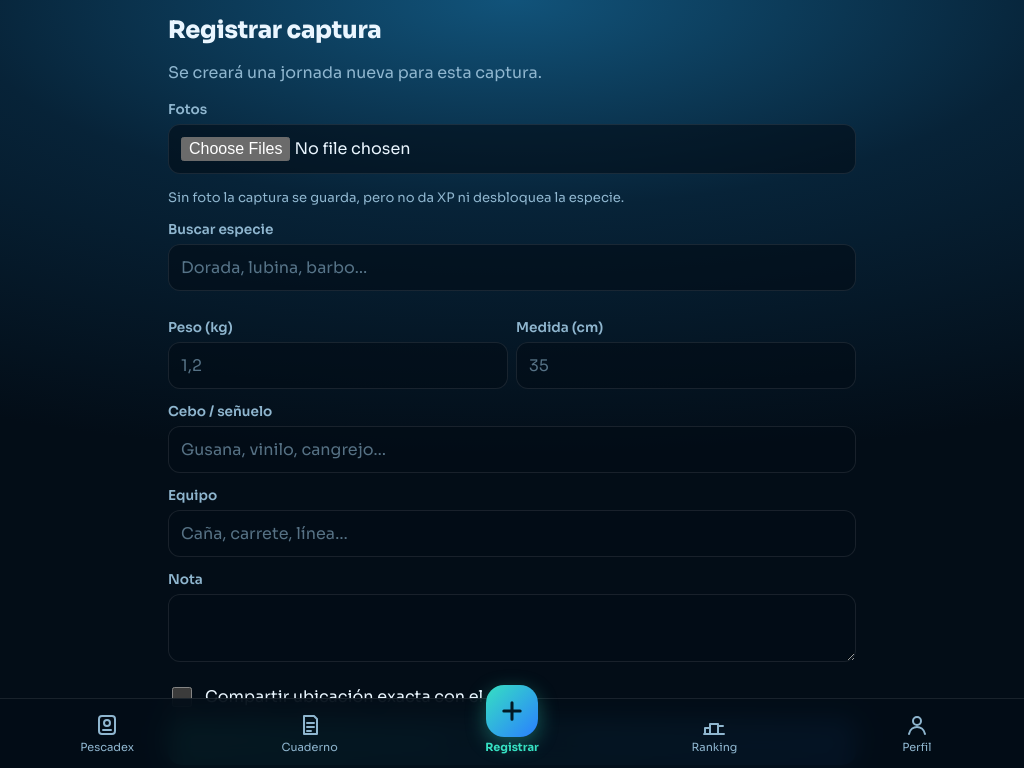
Test: si no existe, se puede crear desde el buscador y queda elegida
Type "pez ballesta gris" into the field labelled "Buscar especie".
click(512, 267); type("pez ballesta gris")  # box [168,244,856,291]
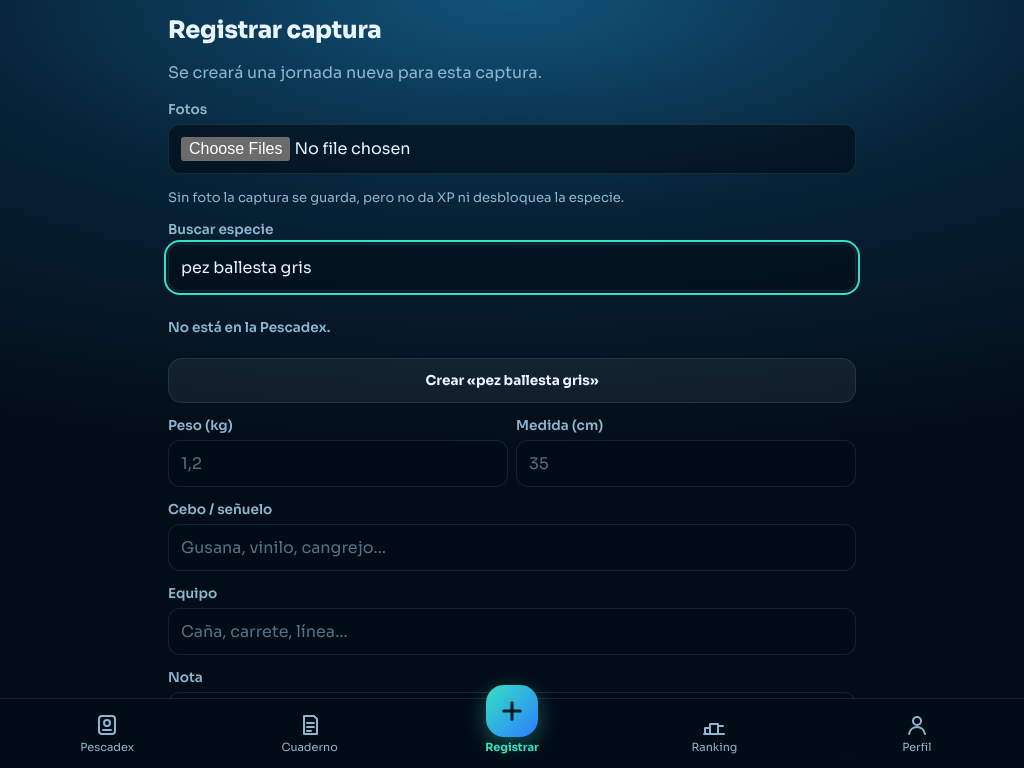
Click the button "Crear «pez ballesta gris»".
click(512, 381)  # box [168,358,856,403]
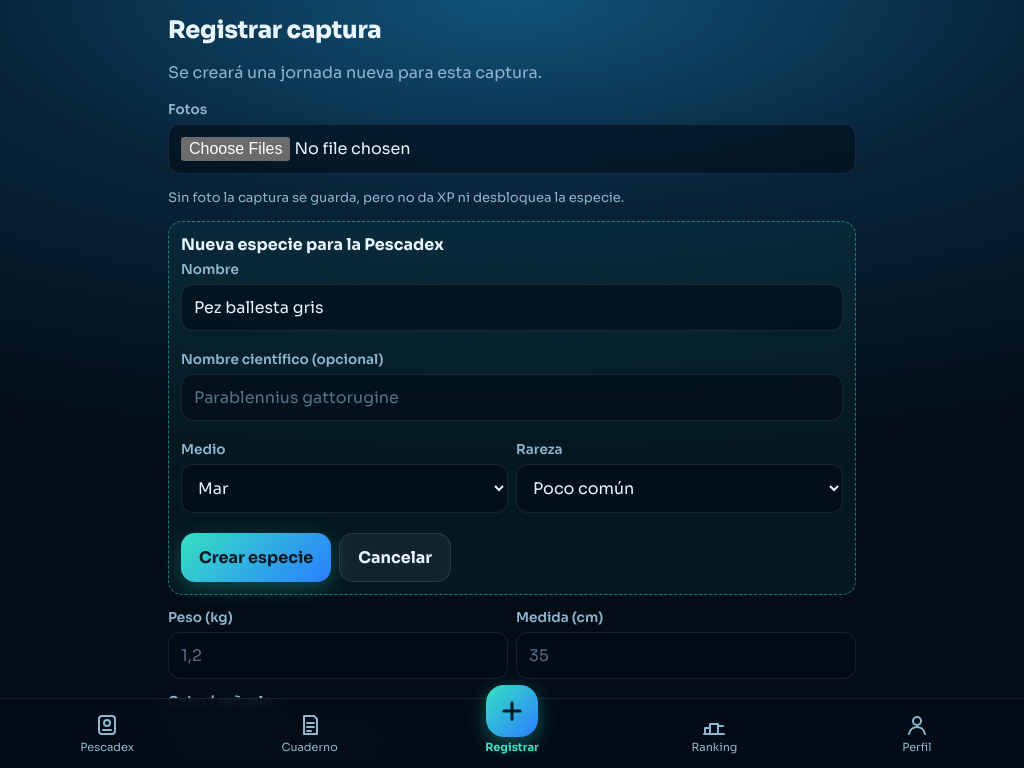
Expected: the field labelled "Nombre" holds "Pez ballesta gris", [181,284,843,331]
Select "Rara" in the dropdown labelled "Rareza" at (680, 488), box [516,464,843,513]
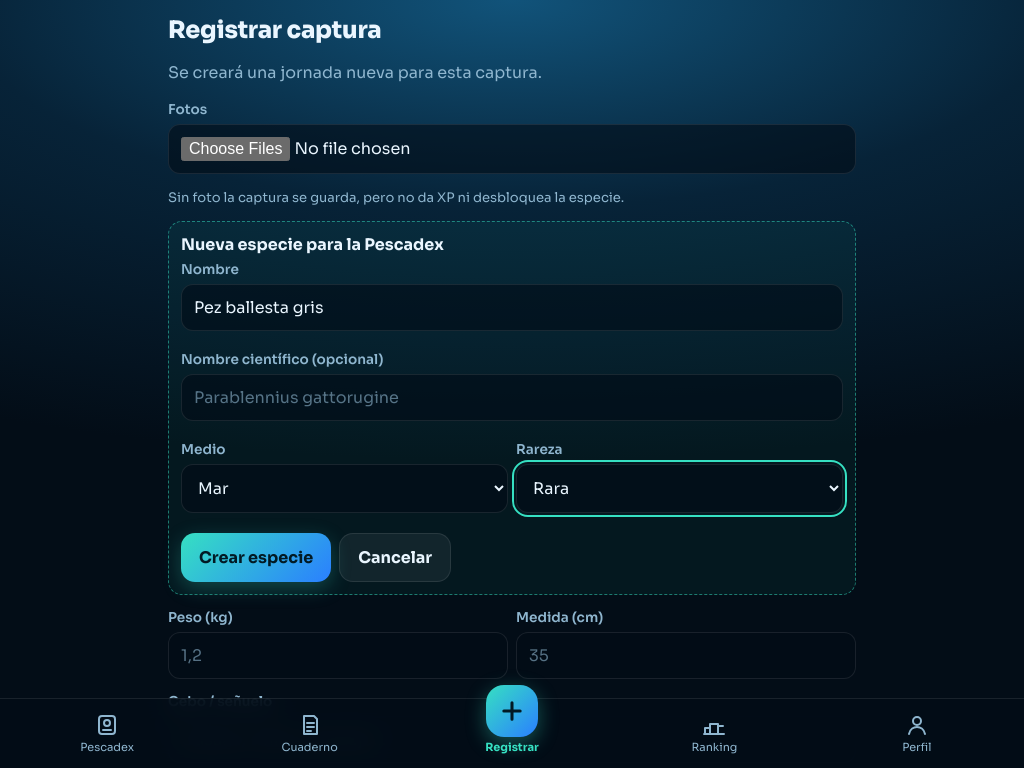
Click the button "Crear especie".
click(256, 557)  # box [181,533,331,582]
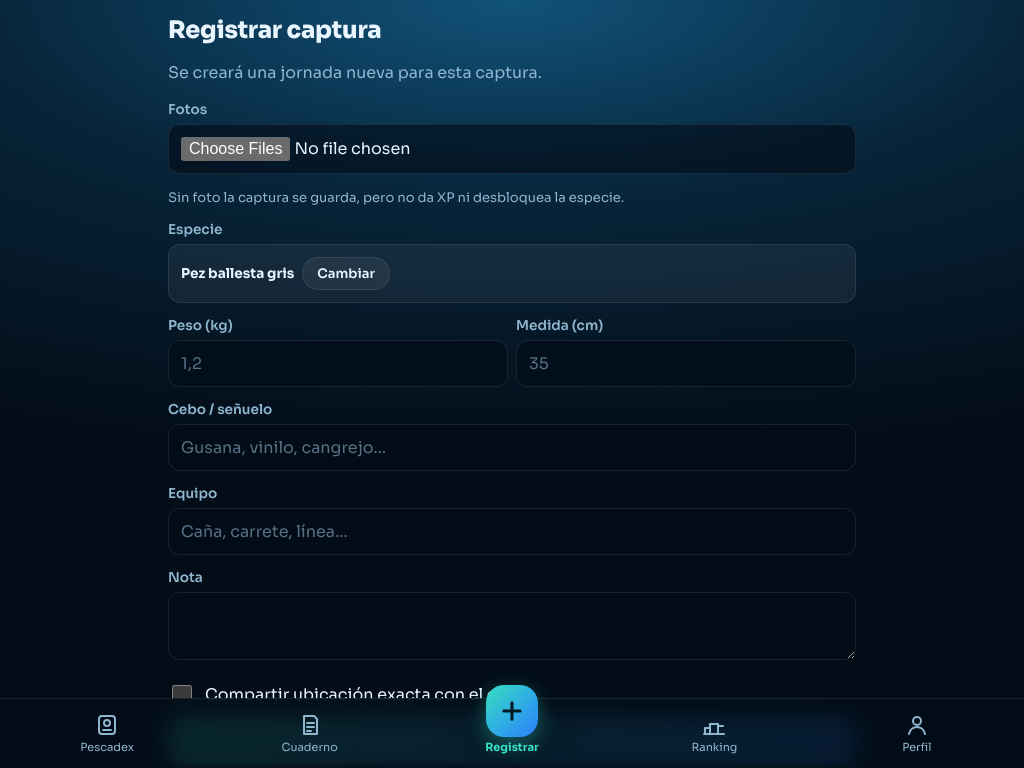
Expected: the text "Pez ballesta gris" is shown, [181,265,294,282]
Expected: the button "Guardar captura" is enabled, [168,716,856,763]
